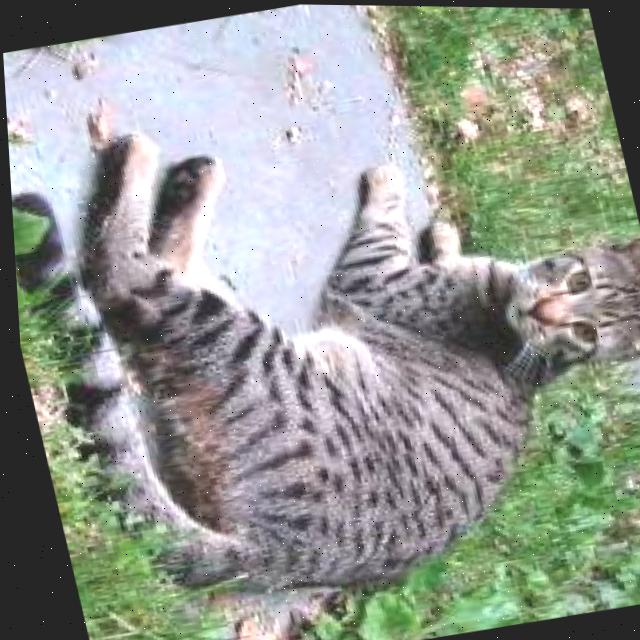Egyptian Mau: (2, 40, 640, 637)
